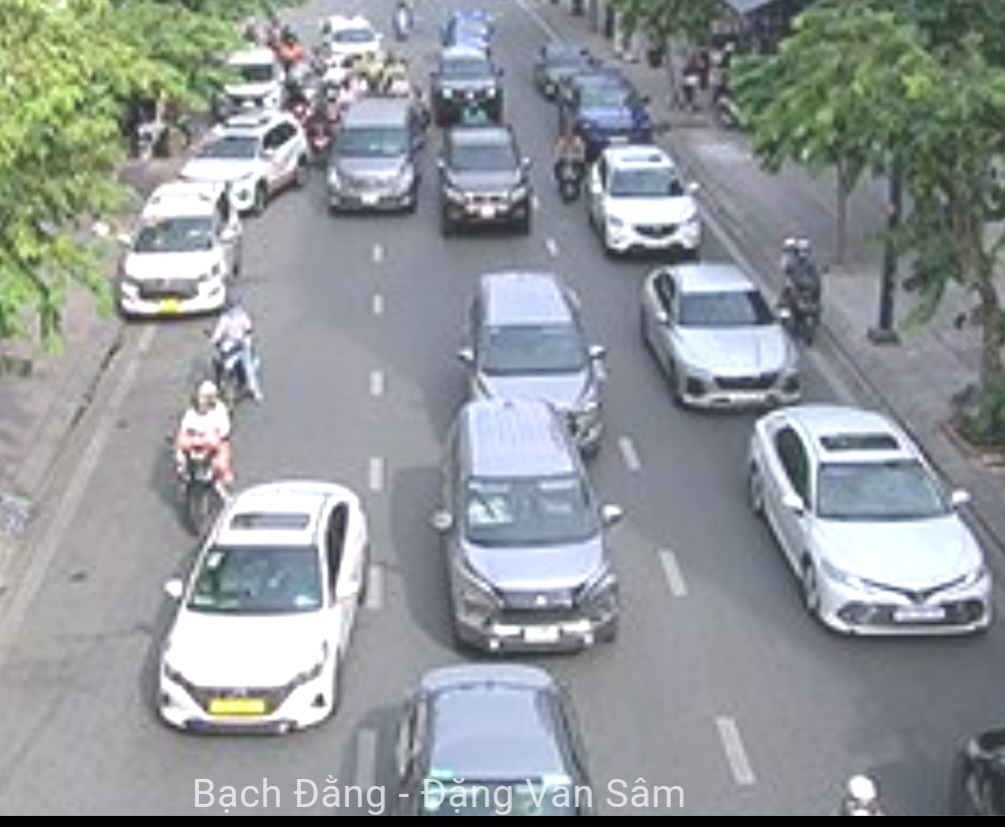car: (752, 407, 999, 649), (155, 473, 371, 739), (430, 397, 642, 666), (399, 661, 594, 827), (463, 262, 611, 433), (639, 265, 808, 413), (116, 188, 245, 316), (586, 147, 708, 261), (184, 112, 312, 211), (328, 98, 426, 224), (436, 127, 539, 241), (570, 72, 661, 152), (429, 48, 507, 123)
